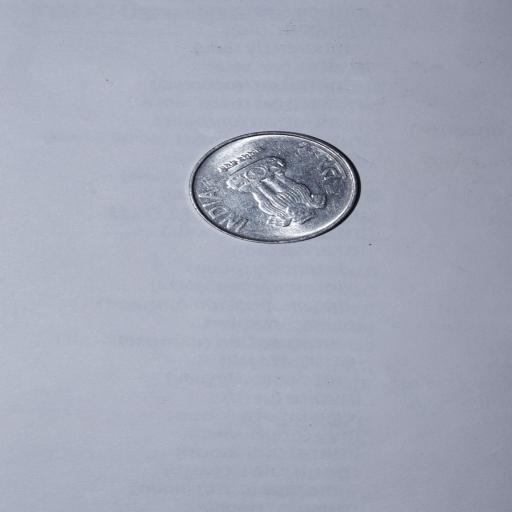rupee1: (188, 131, 361, 243)
